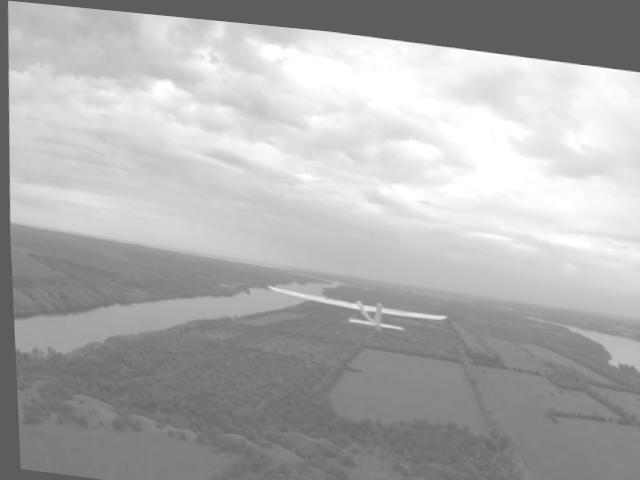hedef: (248, 264, 468, 350)
